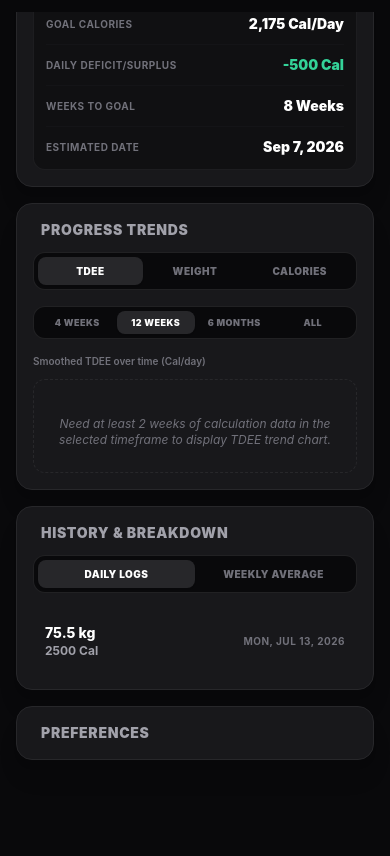
Test: TDEEScreen › weekly history › renders a zero delta without a sign
(page scrolled)
Click the element with test id "weekly-average-tab" at {"x": 273, "y": 574}, box [223,568,324,580]
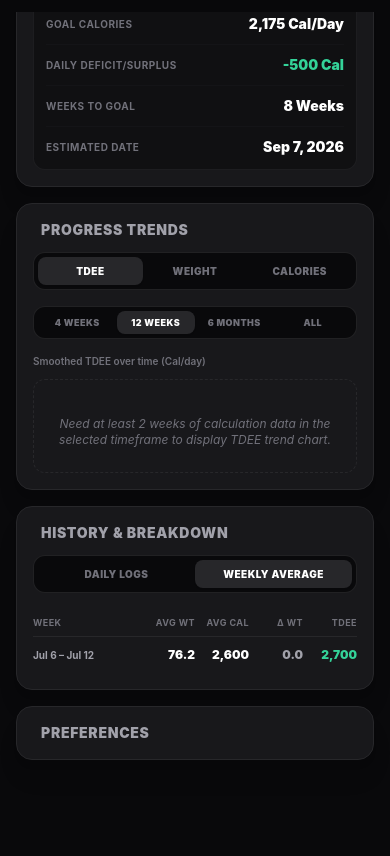
Expected: the text "0.0" is shown, [282,647,303,662]
